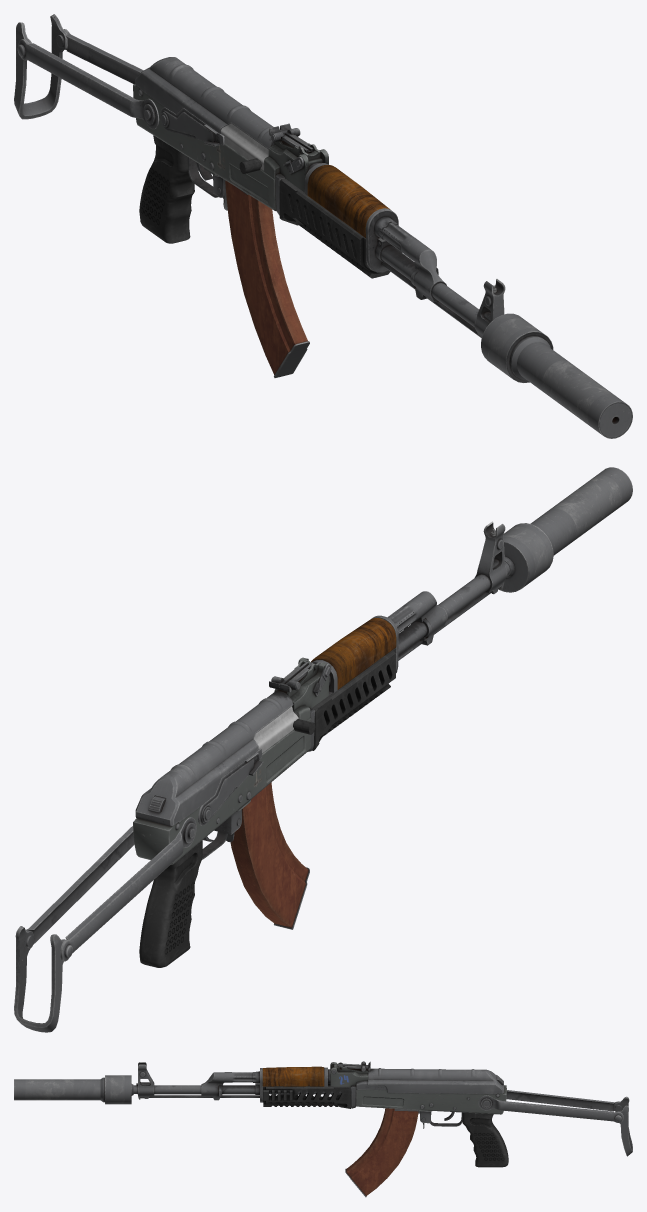
The model's file is ak47_tactical.glb.
3 renders of one model, top to bottom at view 1: azimuth 30°, elevation 25°; view 2: azimuth 150°, elevation 25°; view 3: azimuth 270°, elevation 25°, orthographic. The views are drawn at different scales.
Parts seen in each view (by area): view 1: ak body, magazine, suppressor, stock arms, stock, fireing selector, bolt carrier; view 2: ak body, suppressor, magazine, stock arms, stock, fireing selector, bolt carrier; view 3: ak body, magazine, suppressor, stock arms, stock.
Part boxes in pixels (<box>): ak body: <box>133,57,505,338</box>; magazine: <box>225,180,309,377</box>; suppressor: <box>481,313,632,438</box>; stock arms: <box>17,29,159,129</box>; stock: <box>14,14,67,119</box>; fireing selector: <box>160,107,224,146</box>; bolt carrier: <box>221,123,268,173</box>; ak body: <box>133,521,509,967</box>; suppressor: <box>498,467,632,592</box>; magazine: <box>230,782,309,929</box>; stock arms: <box>25,817,196,961</box>; stock: <box>14,926,65,1032</box>; fireing selector: <box>198,748,263,825</box>; bolt carrier: <box>254,706,315,752</box>; ak body: <box>133,1061,508,1167</box>; magazine: <box>345,1108,419,1197</box>; suppressor: <box>14,1075,133,1104</box>; stock arms: <box>478,1090,623,1122</box>; stock: <box>614,1096,632,1156</box>.
Bounding box in the file's own units: 0.1381 × 0.5337 × 2.27.
1 material, 1 textured.
